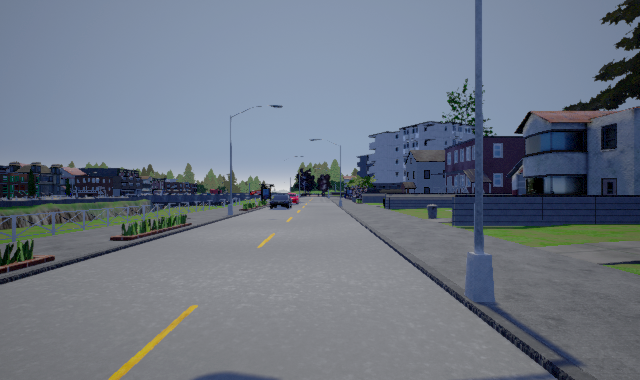vehicle: (270, 193, 291, 210), (282, 193, 301, 208)
